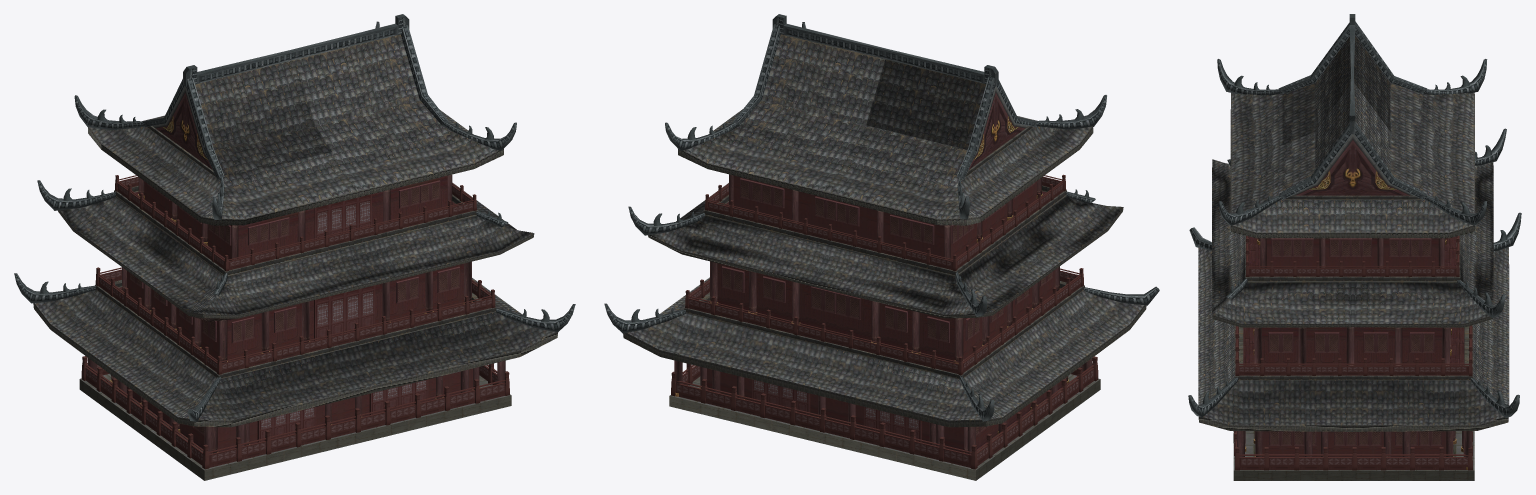
File: q01c_building_003.FBX
3 views of the same model, side by side, from view 1: azimuth 30°, elevation 25°; view 2: azimuth 150°, elevation 25°; view 3: azimuth 270°, elevation 25° (orthographic). The views are drawn at different scales.
Visible parts, largest first — view 1: q01c_building_003_01, q01c_building_003_09, q01c_building_003_05, q01c_building_003_10, q01c_building_003_03, q01c_building_003_06, q01c_building_003_08, q01c_building_003_07; view 2: q01c_building_003_01, q01c_building_003_09, q01c_building_003_05, q01c_building_003_10, q01c_building_003_03, q01c_building_003_06, q01c_building_003_08, q01c_building_003_07; view 3: q01c_building_003_01, q01c_building_003_10, q01c_building_003_09, q01c_building_003_05, q01c_building_003_03, q01c_building_003_06, q01c_building_003_08, q01c_building_003_04, q01c_building_003_07.
Boxes of the visible parts, x1,y1,x2,y2 form: q01c_building_003_01: (33,34,557,427); q01c_building_003_09: (81,175,509,469); q01c_building_003_05: (117,175,473,451); q01c_building_003_10: (14,14,575,421); q01c_building_003_03: (129,180,459,442); q01c_building_003_06: (88,174,505,454); q01c_building_003_08: (79,379,511,480); q01c_building_003_07: (80,374,510,470); q01c_building_003_01: (623,34,1146,427); q01c_building_003_09: (671,174,1098,469); q01c_building_003_05: (707,175,1064,452); q01c_building_003_10: (604,14,1159,421); q01c_building_003_03: (721,178,1052,442); q01c_building_003_06: (674,174,1092,454); q01c_building_003_08: (669,379,1100,480); q01c_building_003_07: (669,374,1100,470); q01c_building_003_01: (1198,35,1509,431); q01c_building_003_10: (1188,14,1521,417); q01c_building_003_09: (1234,236,1472,470); q01c_building_003_05: (1262,238,1446,456); q01c_building_003_03: (1268,238,1444,445); q01c_building_003_06: (1237,238,1471,469); q01c_building_003_08: (1233,433,1474,480); q01c_building_003_04: (1243,236,1464,365); q01c_building_003_07: (1233,431,1474,470).
Size of the model in its own units: 2903 by 2528 by 2221.
